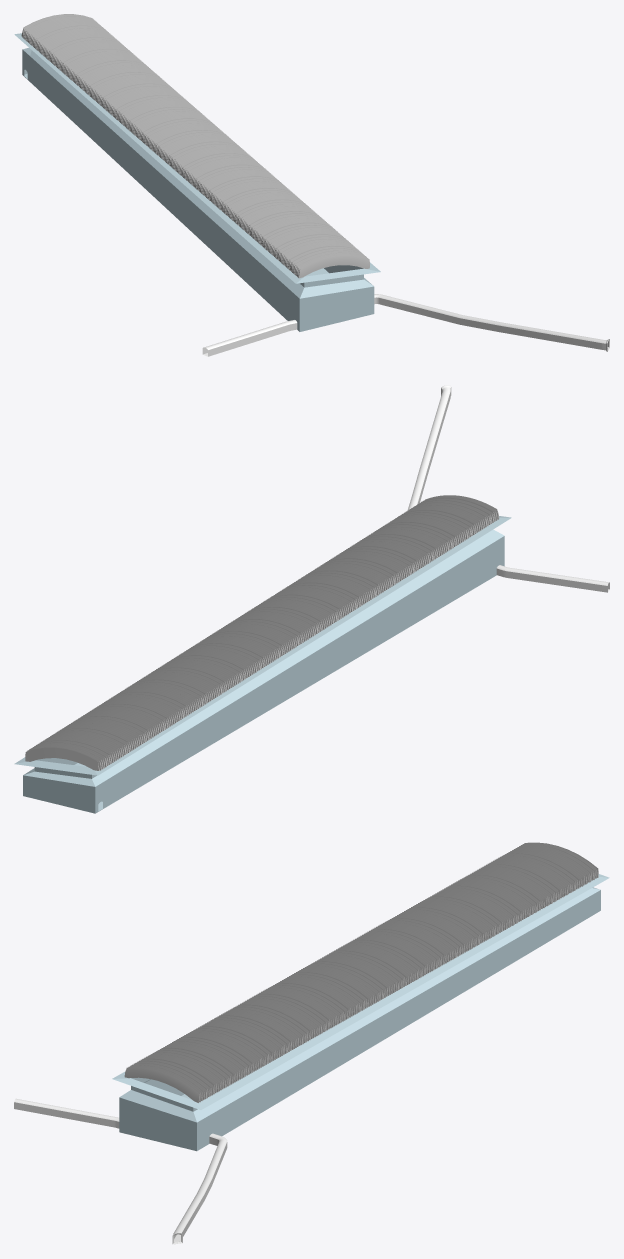
Rendered from South_Farm_Atrium.glb.
3 renders of one model, top to bottom at view 1: azimuth 30°, elevation 25°; view 2: azimuth 150°, elevation 25°; view 3: azimuth 330°, elevation 25°, orthographic. The views are drawn at different scales.
Visible parts, largest first — view 1: SouthLongAtrium_RadBlind, Walls, SouthLongAtrium_RadBlind.002, Passage-SouthAtrium-to-Teacup; view 2: SouthLongAtrium_RadBlind, Walls, SouthLongAtrium_RadBlind.002, Passage-SouthAtrium-to-Teacup; view 3: SouthLongAtrium_RadBlind, Walls, SouthLongAtrium_RadBlind.002, Passage-SouthAtrium-to-Teacup.
Boxes of the visible parts, x1=… form: SouthLongAtrium_RadBlind: x1=22, y1=14, x2=369, y2=278; Walls: x1=14, y1=33, x2=380, y2=331; SouthLongAtrium_RadBlind.002: x1=21, y1=14, x2=363, y2=274; Passage-SouthAtrium-to-Teacup: x1=202, y1=294, x2=609, y2=356; SouthLongAtrium_RadBlind: x1=27, y1=495, x2=499, y2=770; Walls: x1=14, y1=516, x2=511, y2=813; SouthLongAtrium_RadBlind.002: x1=25, y1=497, x2=494, y2=770; Passage-SouthAtrium-to-Teacup: x1=407, y1=385, x2=609, y2=592; SouthLongAtrium_RadBlind: x1=124, y1=842, x2=597, y2=1102; Walls: x1=112, y1=874, x2=609, y2=1151; SouthLongAtrium_RadBlind.002: x1=131, y1=842, x2=598, y2=1100; Passage-SouthAtrium-to-Teacup: x1=14, y1=1098, x2=227, y2=1244.
Size of what is drawn, in the model's own units: 170 by 38.35 by 485.
